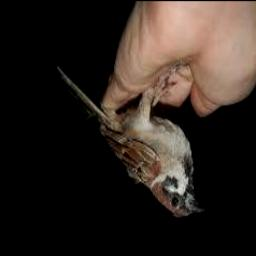Sparrow: (57, 68, 205, 220)
